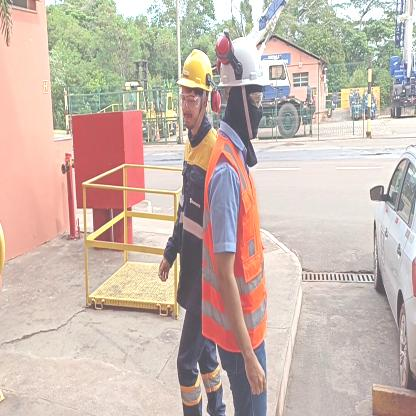Balaclava: (224, 84, 265, 144)
C_eletrica: (178, 133, 212, 305)
Capacete: (217, 29, 273, 86), (177, 47, 214, 91)
colete: (202, 134, 274, 355)
